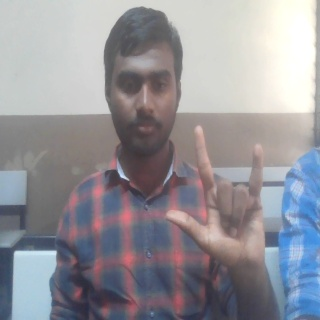Face: (100, 6, 184, 164)
I Love You: (163, 121, 277, 273)
